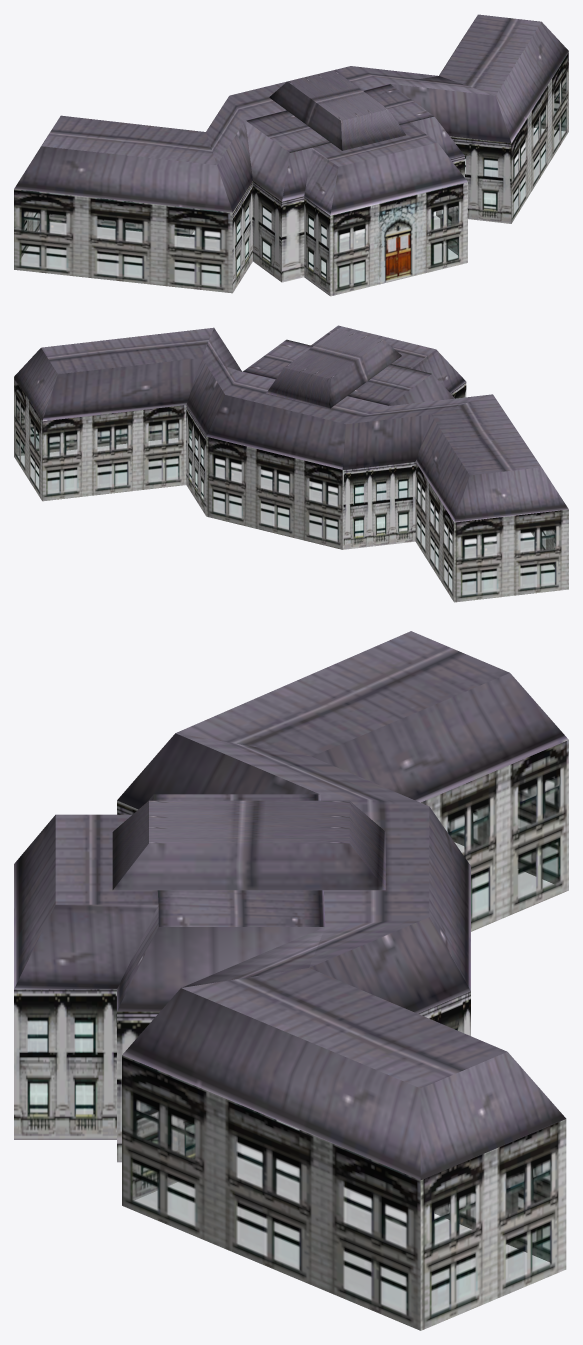
The model's file is Civilian - Civilian Building - Mansn Glw - CBMansnGlw.glb.
The picture shows the model from 3 angles, top to bottom: view 1: azimuth 30°, elevation 25°; view 2: azimuth 150°, elevation 25°; view 3: azimuth 270°, elevation 25°; orthographic projection. The views are drawn at different scales.
Parts seen in each view (by area): view 1: CBMANSNGLW; view 2: CBMANSNGLW; view 3: CBMANSNGLW.
Boxes of the visible parts, box(x1,y1,x2,y2) form: CBMANSNGLW: box(14, 14, 568, 296); CBMANSNGLW: box(14, 325, 568, 602); CBMANSNGLW: box(14, 631, 568, 1330).
Bounding box in the file's own units: 120 × 28.32 × 55.49.
Materials: 1 (1 with a texture image).
